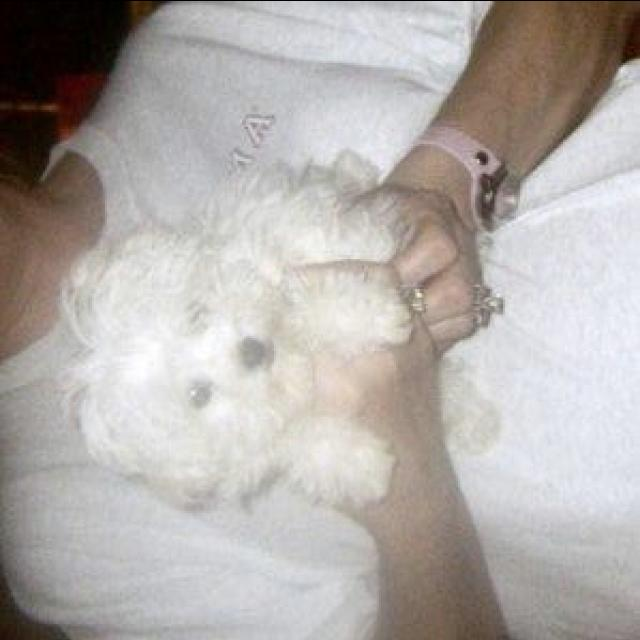maltese_dog: (58, 145, 503, 512)
